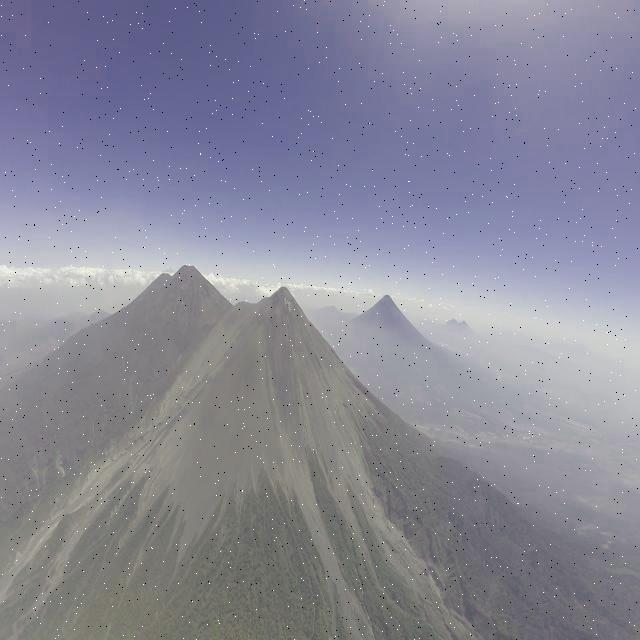Summit: (256, 282, 306, 314)
